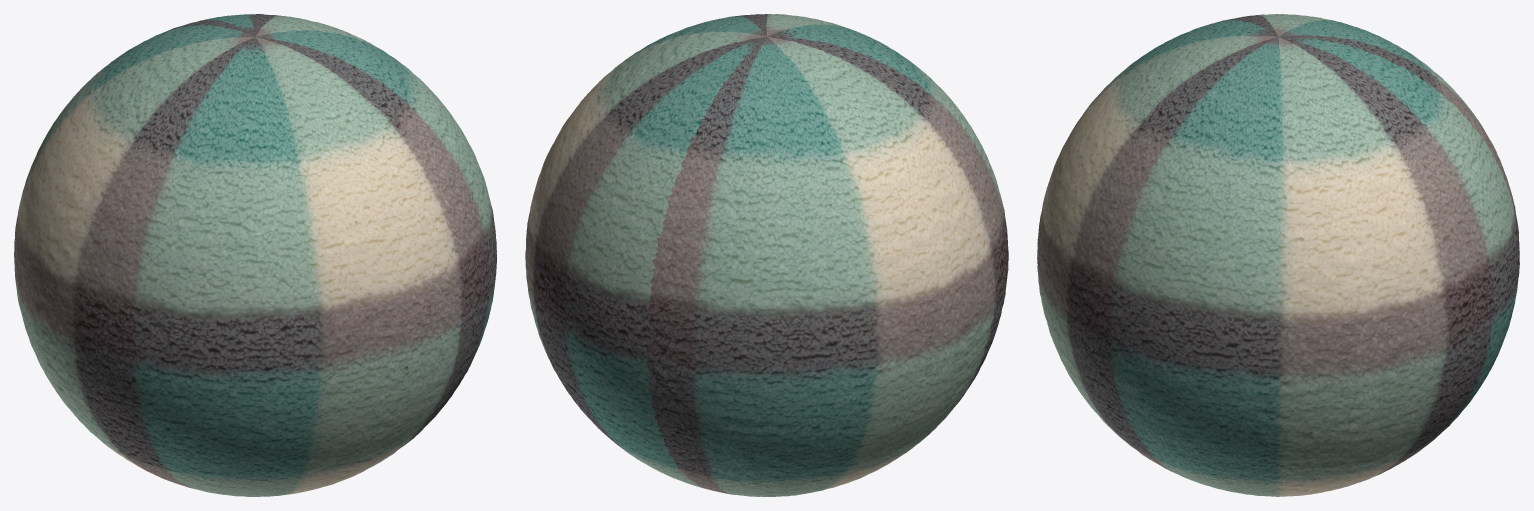
Rendered from curly_teddy_checkered_1k.gltf.
The picture shows the model from 3 angles, left to right: view 1: azimuth 30°, elevation 25°; view 2: azimuth 150°, elevation 25°; view 3: azimuth 270°, elevation 25°; orthographic projection.
Parts seen in each view (by area): view 1: sphere_gltf; view 2: sphere_gltf; view 3: sphere_gltf.
Part boxes in pixels (x1,y1,x2,y2): sphere_gltf: (14, 14, 496, 496); sphere_gltf: (525, 14, 1008, 496); sphere_gltf: (1037, 14, 1519, 496).
Size of the model in its own units: 0.4745 by 0.4746 by 0.4747.
1 material, 1 textured.
